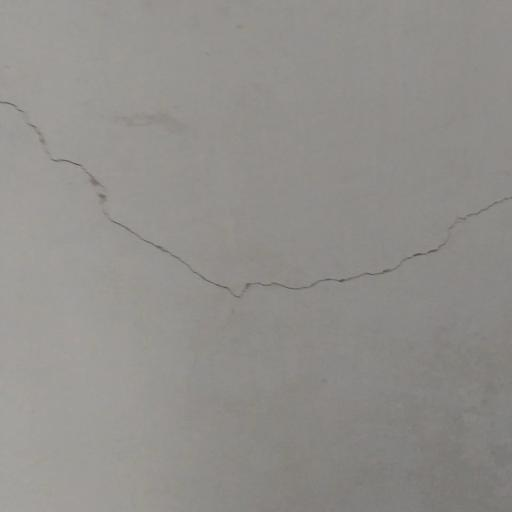minor_crack: (1, 82, 512, 315)
